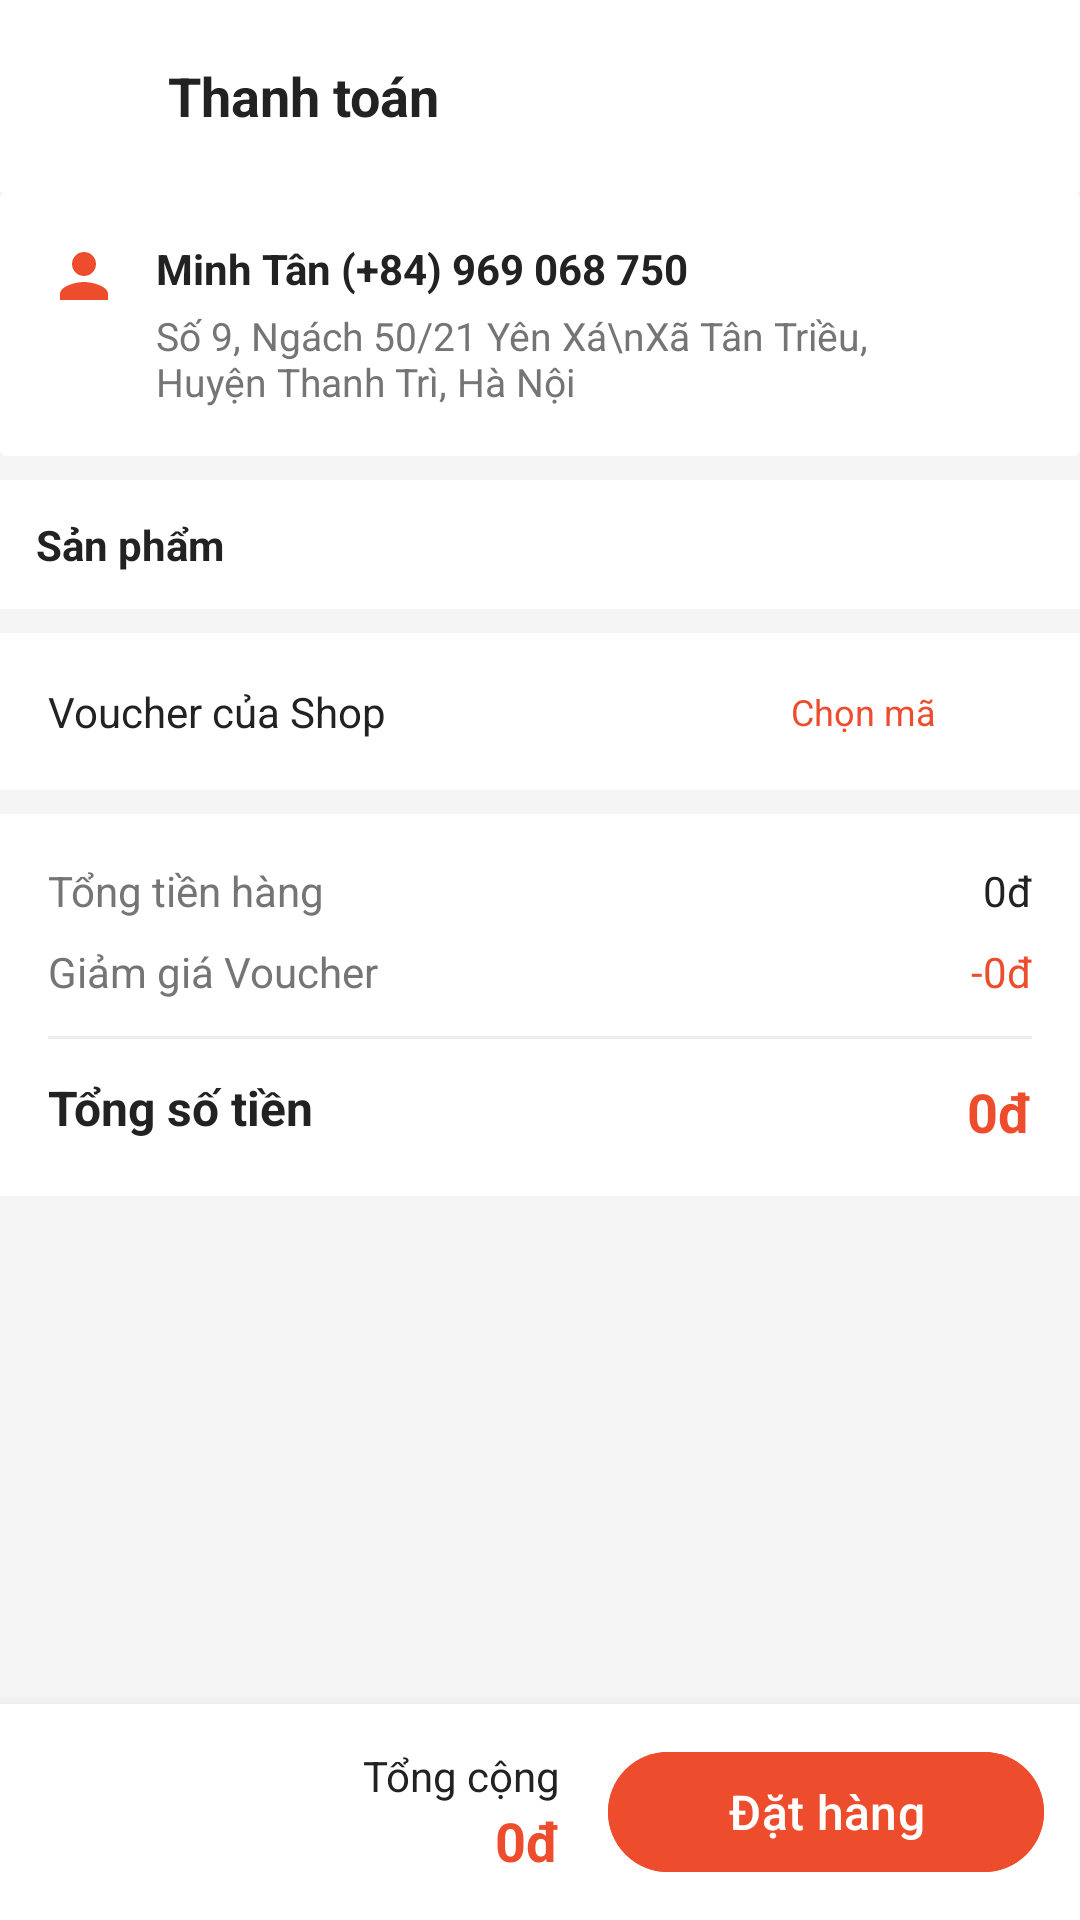

Named icons in this screenshot (1080px×1920px) and their bounding boxes, (x1, y1, x2, y2):
person: (60, 252, 108, 300)
